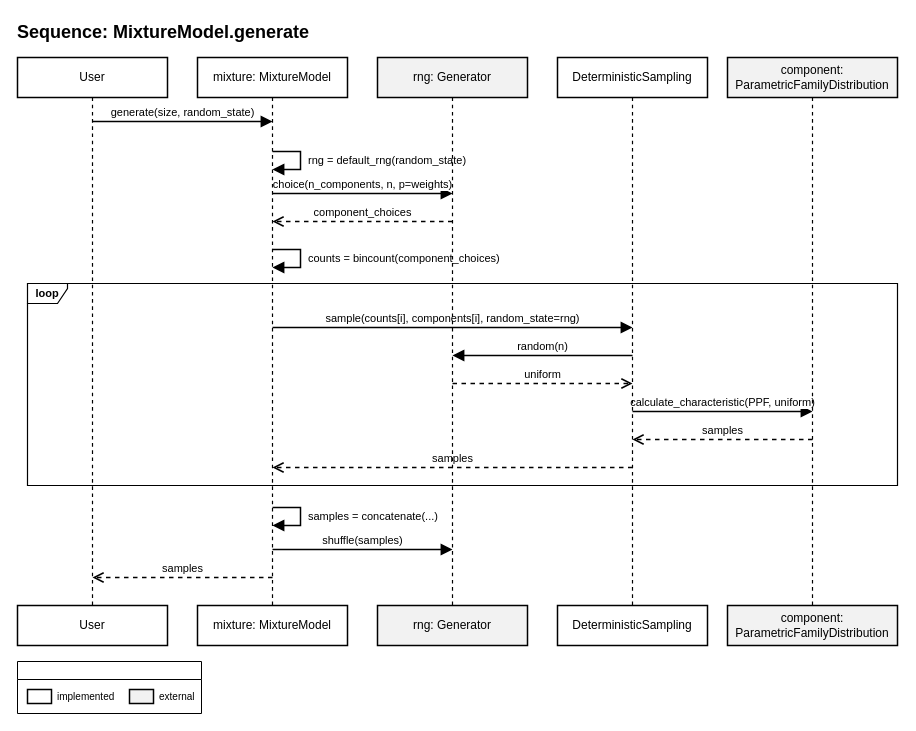
The diagram is 916 pixels wide and 731 high, and some of its shapes have lost their labels. Each missing label, with the box of its shape:
[for i with counts[i] > 0]: (73, 284, 233, 302)
Legend: (16, 660, 202, 714)
